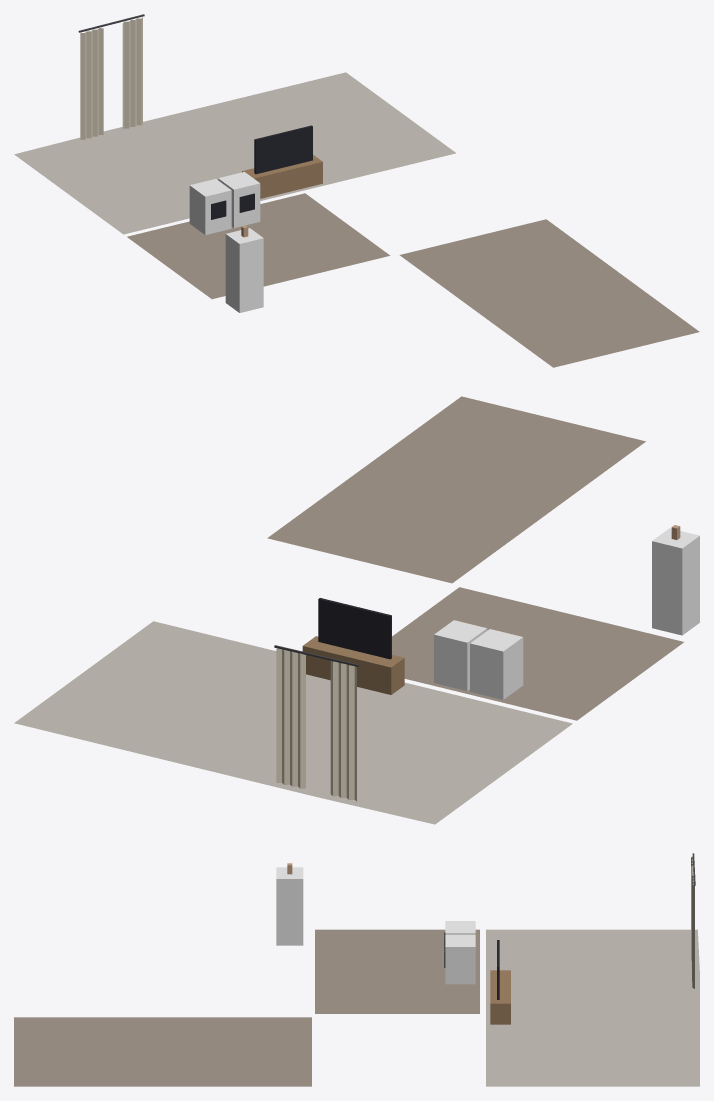
File: fine-s0.glb
3 renders of one model, top to bottom at view 1: azimuth 30°, elevation 25°; view 2: azimuth 150°, elevation 25°; view 3: azimuth 270°, elevation 25°, orthographic. The views are drawn at different scales.
Parts seen in each view (by area): view 1: soft-s0, tv-console.000, water-heater.000, washer.000, washer.001; view 2: soft-s0, tv-console.000, water-heater.000, washer.000, washer.001; view 3: soft-s0, water-heater.000, washer.001, tv-console.000, washer.000.
Part boxes in pixels (<box>): soft-s0: <box>14,14,699,367</box>; tv-console.000: <box>242,125,322,198</box>; water-heater.000: <box>225,225,263,312</box>; washer.000: <box>189,179,231,234</box>; washer.001: <box>218,172,260,227</box>; soft-s0: <box>14,396,683,824</box>; tv-console.000: <box>302,598,404,694</box>; water-heater.000: <box>652,525,699,635</box>; washer.000: <box>470,629,523,699</box>; washer.001: <box>434,620,487,690</box>; soft-s0: <box>14,853,699,1086</box>; water-heater.000: <box>276,863,303,945</box>; washer.001: <box>444,934,475,984</box>; tv-console.000: <box>490,940,510,1024</box>; washer.000: <box>444,921,475,945</box>.
Size of the model in its own units: 7.57 by 2.4 by 13.95.
